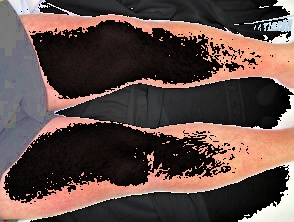SJS-TEN: (0, 82, 294, 222), (14, 11, 294, 115)
